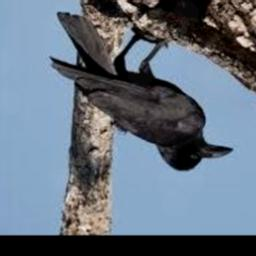Crow: (50, 10, 235, 171)
